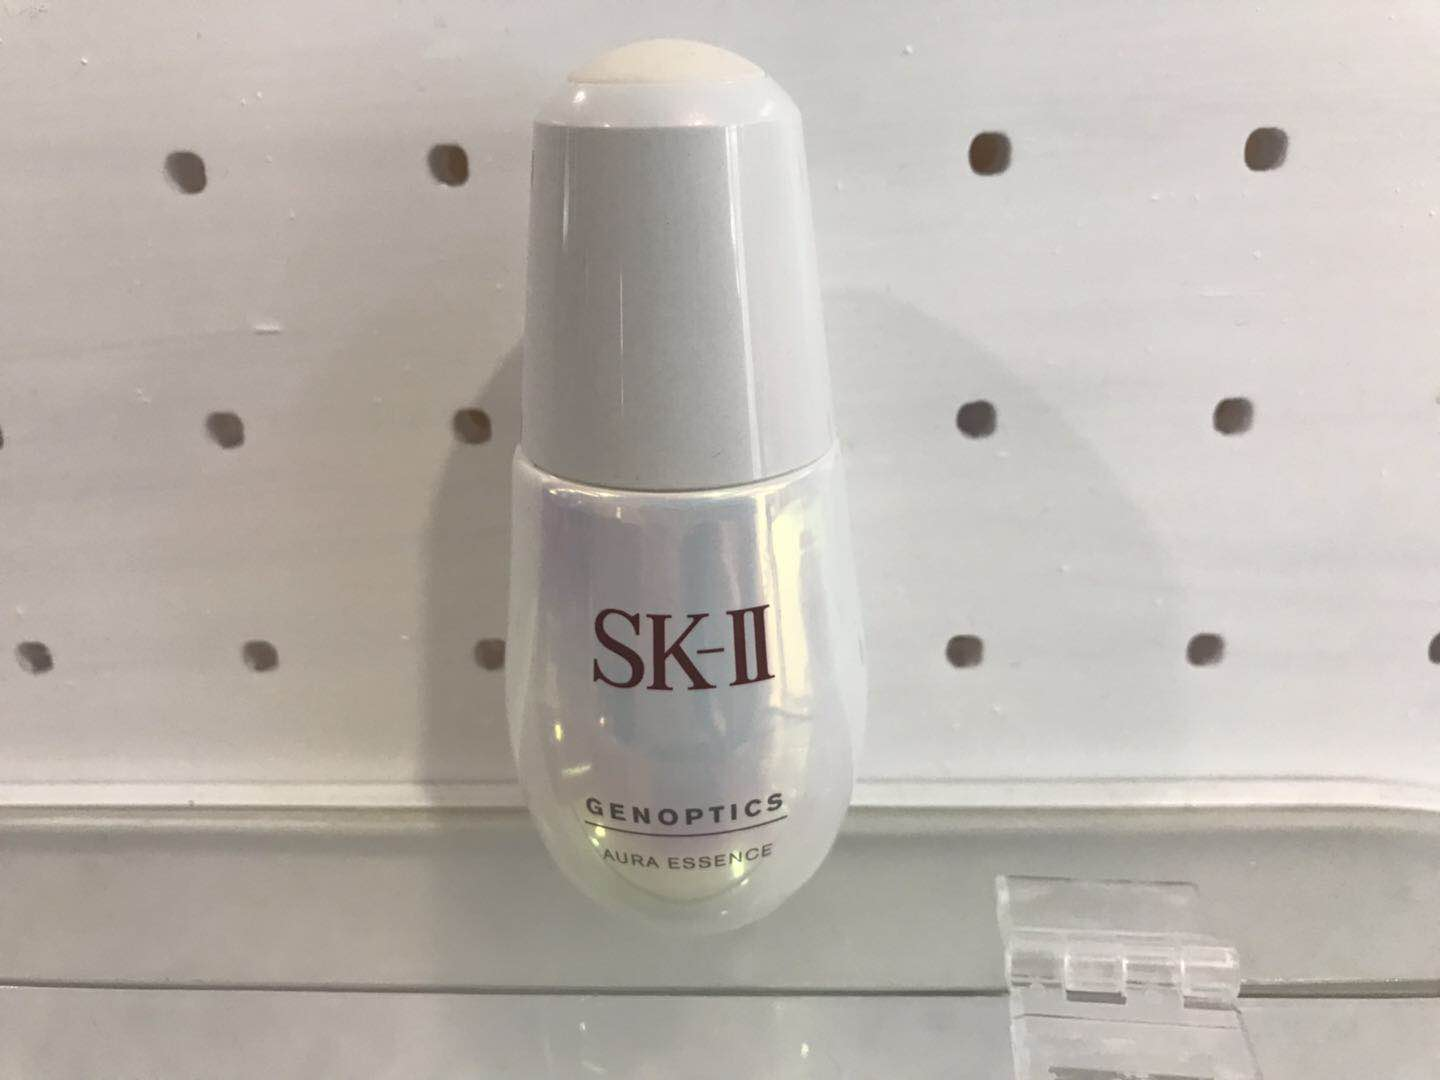sk2: (472, 22, 909, 970)
